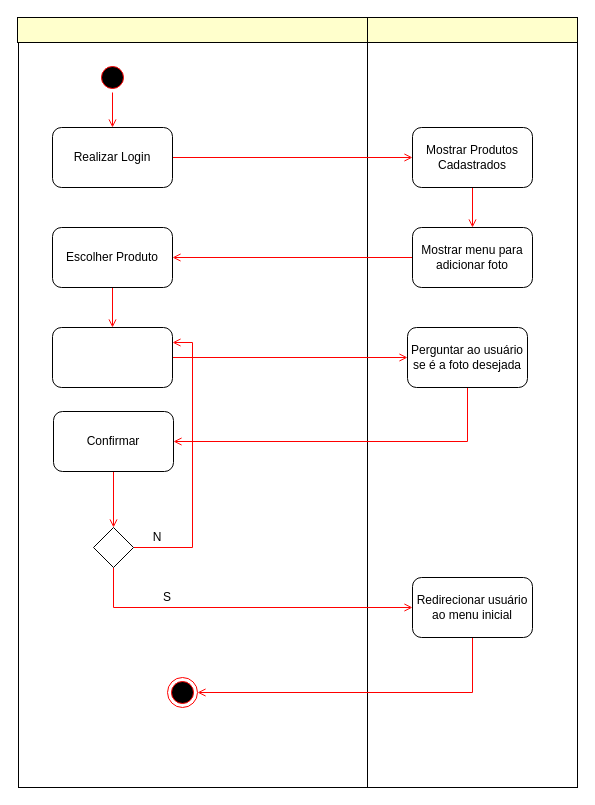
Image size: 595x805. Some labels were removed from this diagram. Here are the shapes that lost their labels. From the top down, the centre of each, then its label:
the point at 192,29: Usuário
the point at 472,29: MEEPS
the point at 112,357: Escolher Foto
